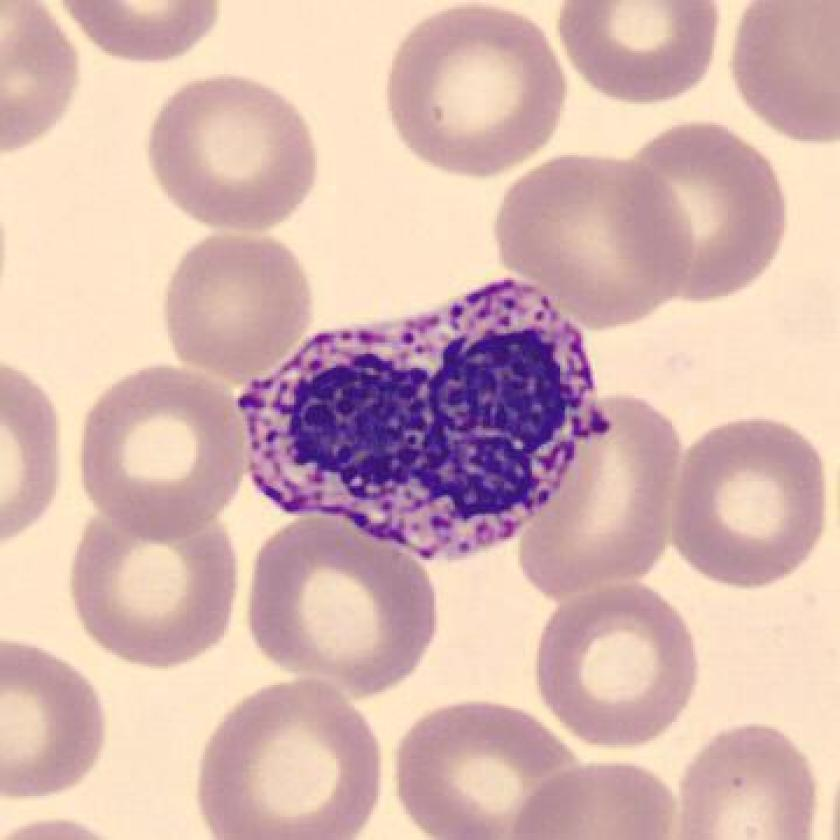basophil: (249, 277, 606, 564)
